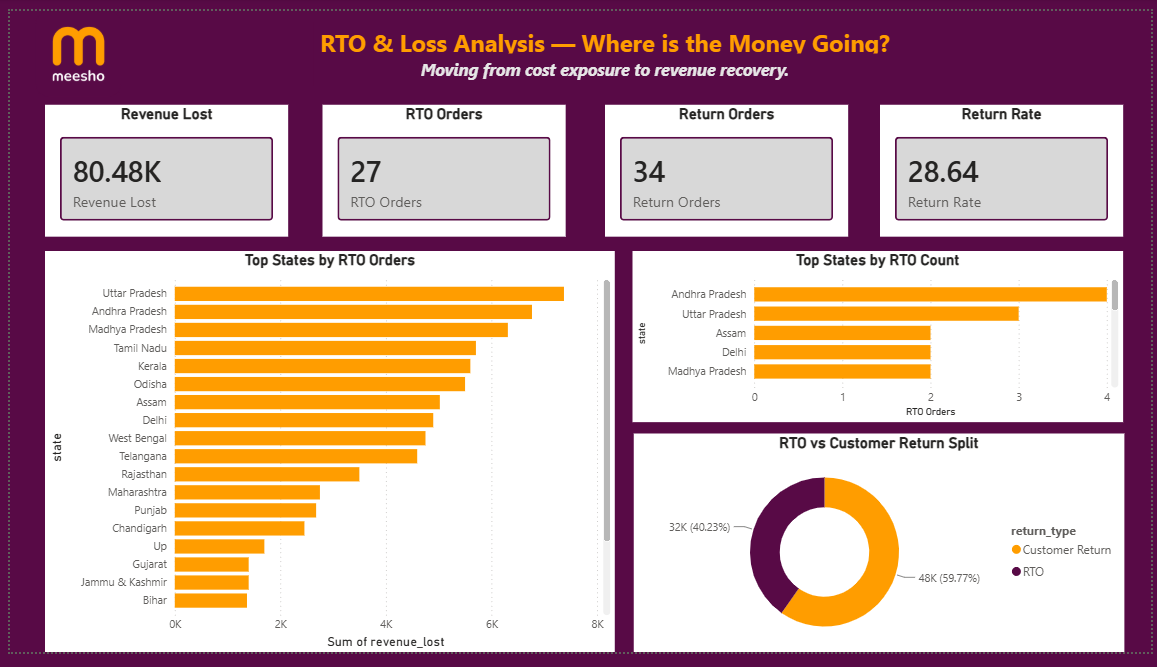

The page's visual inventory and layout, read from the dashboard file:
{"tool":"powerbi","page":{"name":"RTO & Loss Analysis","canvas":[1280,720],"ordinal":1},"visuals":[{"type":"textbox","box":[312.9,26.1,653.2,53.5],"z":0},{"type":"clusteredBarChart","title":"Top States by RTO Count","fields":{"Category":["orders.state"],"Y":["orders.RTO Orders"]},"box":[698.5,269,550.3,192.1],"z":1000},{"type":"donutChart","title":"RTO vs Customer Return Split","fields":{"Category":["returns.return_type"],"Y":["Sum(returns.revenue_lost)"]},"box":[699.8,473.4,550.3,247],"z":2000},{"type":"clusteredBarChart","title":"Top States by RTO Orders","fields":{"Category":["returns.state"],"Y":["Sum(returns.revenue_lost)"]},"box":[39.8,269,639.5,451.5],"z":3000},{"type":"cardVisual","title":"Revenue Lost","fields":{"Data":["orders.Revenue Lost"]},"box":[39.8,105.7,273.1,148.2],"z":4000},{"type":"cardVisual","title":" RTO Orders","fields":{"Data":["orders.RTO Orders"]},"box":[349.9,105.7,273.1,148.2],"z":5000},{"type":"cardVisual","title":"Return Orders","fields":{"Data":["orders.Return Orders"]},"box":[666.9,105.7,273.1,148.2],"z":6000},{"type":"cardVisual","title":"Return Rate","fields":{"Data":["orders.Return Rate"]},"box":[975.6,105.7,273.1,148.2],"z":7000},{"type":"image","box":[0,0,122.1,94.7],"z":8000},{"type":"textbox","box":[100.2,393.8,299.1,172.9],"z":9000}]}

Visuals, with their boxes in screenshot pixels (x1, y1, x2, y2), scaled from the page's 1280x720 canvas onto the 1157x667 screenshot:
textbox: (left=283, top=24, right=873, bottom=74)
"Top States by RTO Count" clusteredBarChart: (left=631, top=249, right=1129, bottom=427)
"RTO vs Customer Return Split" donutChart: (left=633, top=439, right=1130, bottom=666)
"Top States by RTO Orders" clusteredBarChart: (left=36, top=249, right=614, bottom=666)
"Revenue Lost" cardVisual: (left=36, top=98, right=283, bottom=235)
" RTO Orders" cardVisual: (left=316, top=98, right=563, bottom=235)
"Return Orders" cardVisual: (left=603, top=98, right=850, bottom=235)
"Return Rate" cardVisual: (left=882, top=98, right=1129, bottom=235)
image: (left=0, top=0, right=110, bottom=88)
textbox: (left=91, top=365, right=361, bottom=525)
